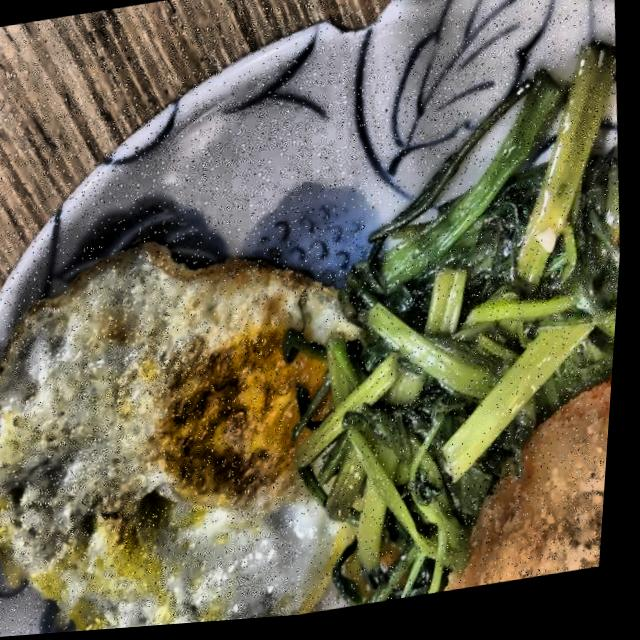Food: (0, 196, 390, 640), (311, 120, 632, 615)
